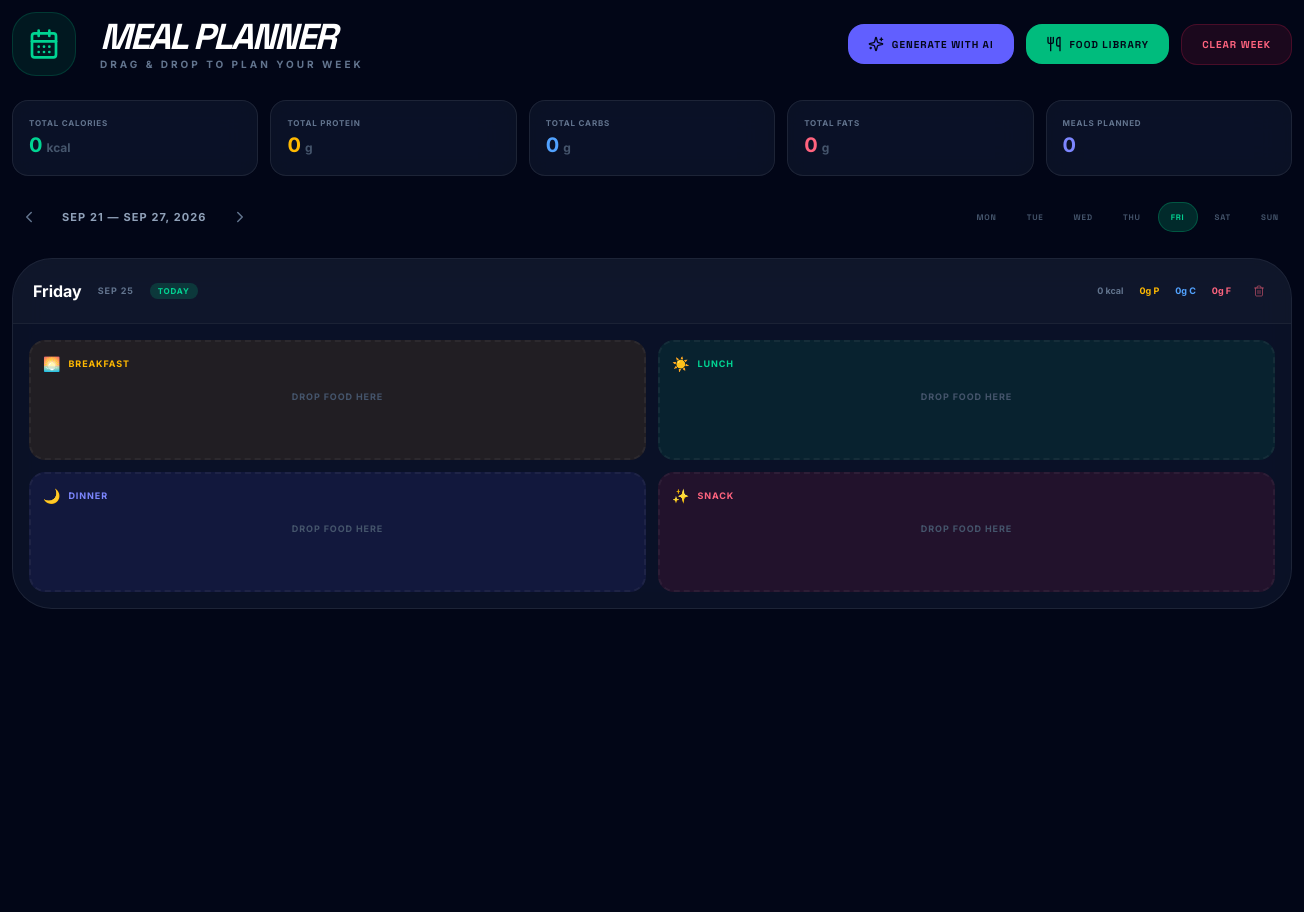
Test: MealPlanner › falls back to local AI generation when backend has no plan
The image size is (1304, 912).
Step 1. Click the button "Generate with AI" → (931, 44), box [848,24,1014,64]
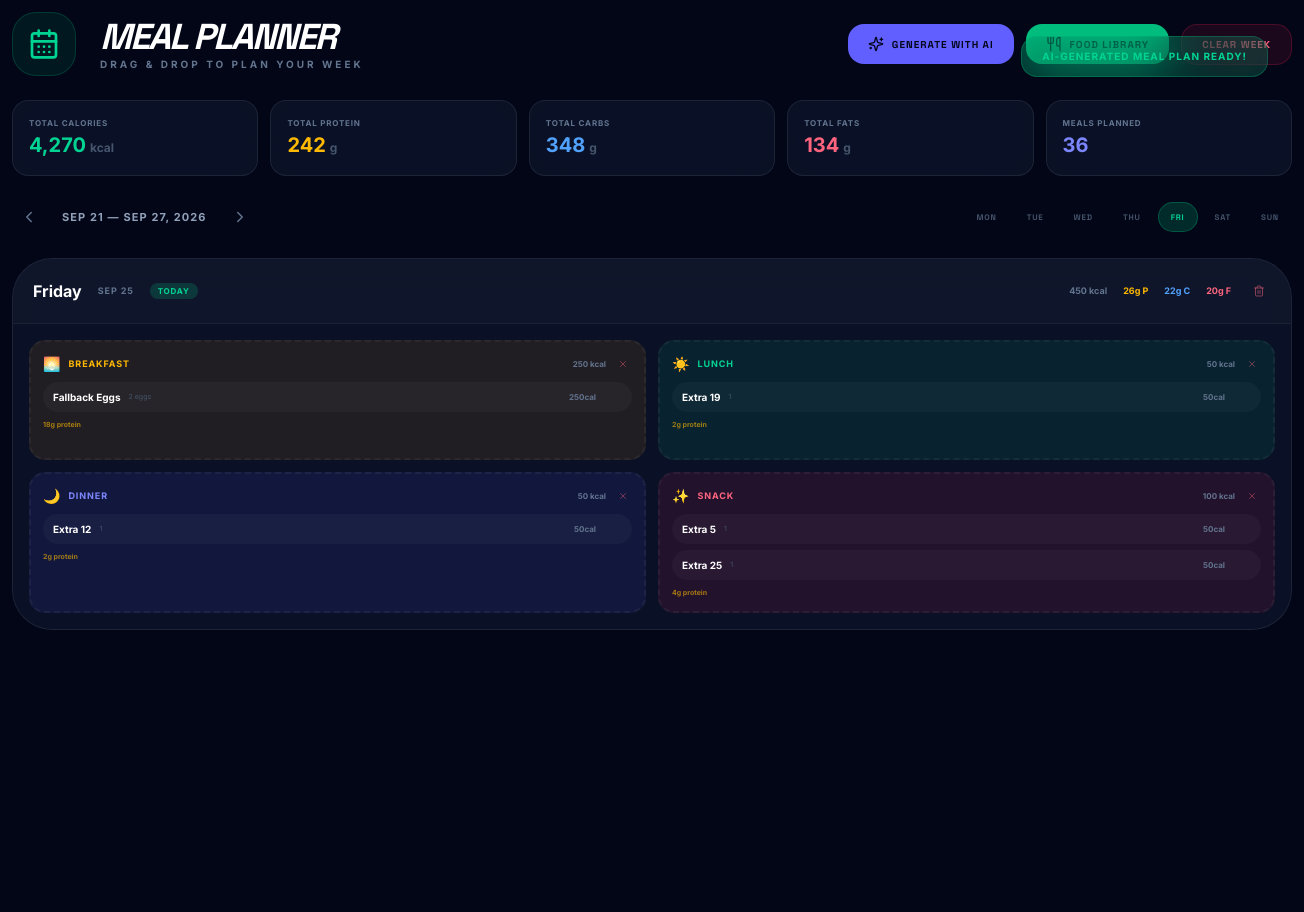
Step 2. Click the button "Mon" → (986, 217), box [963,202,1010,232]
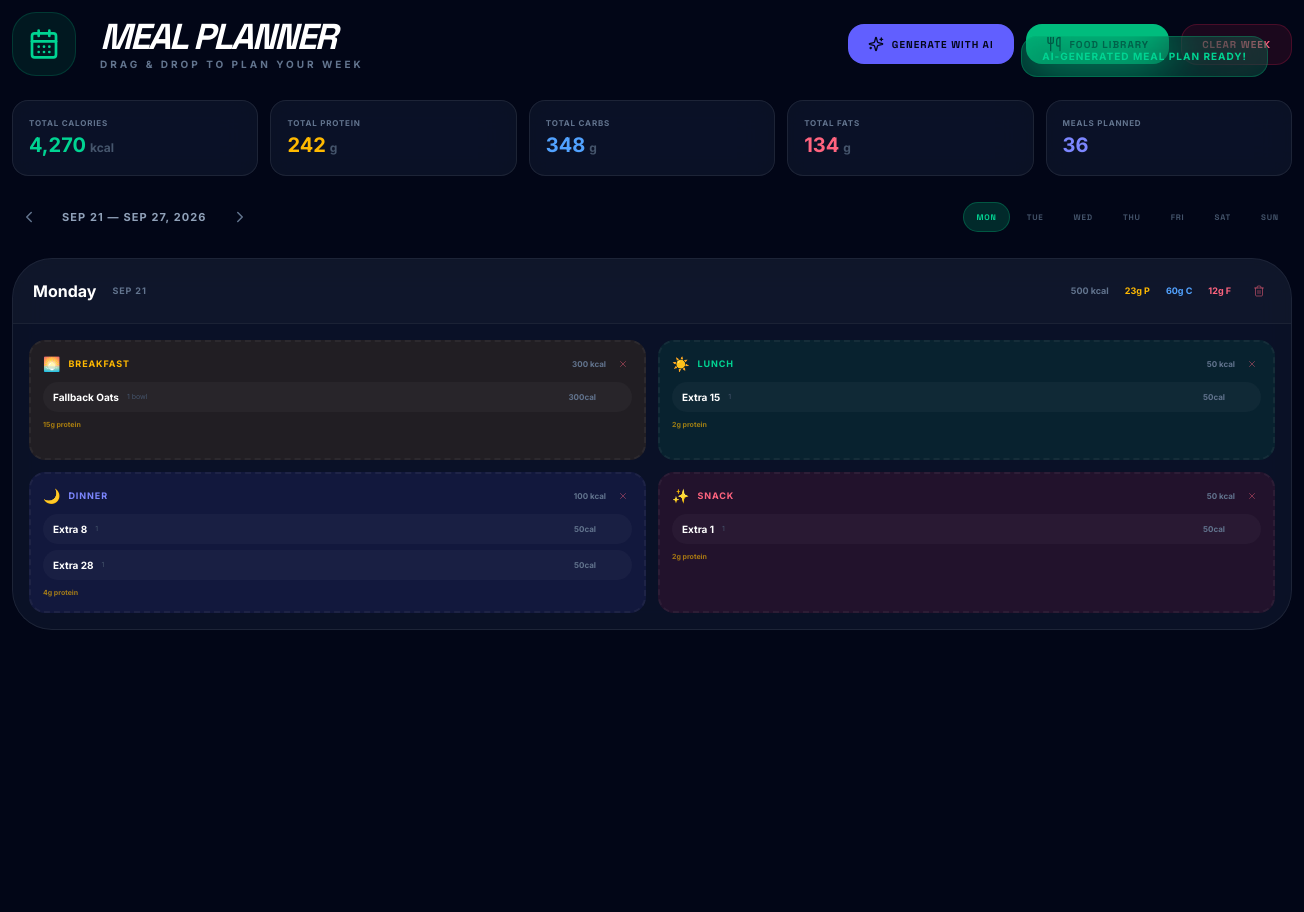
Expected: the text "Fallback Oats" is shown, [53,390,119,404]
